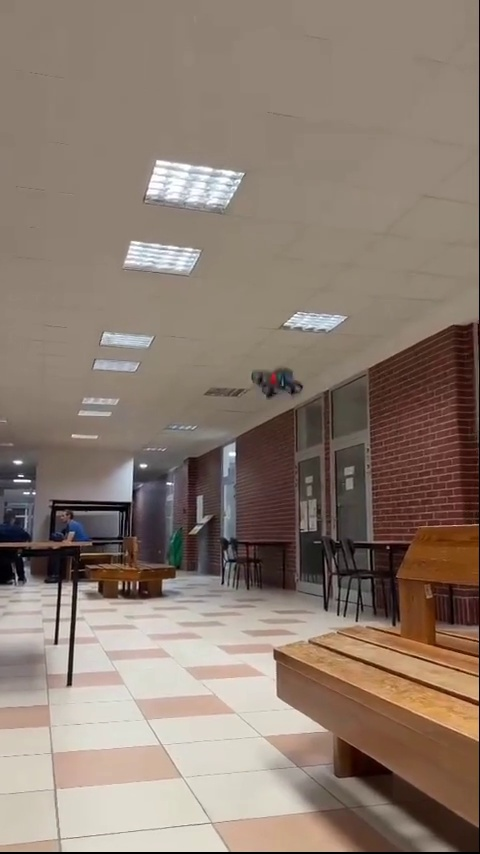drone: (252, 370, 301, 400)
no vest: (44, 497, 87, 569), (0, 494, 29, 586)
